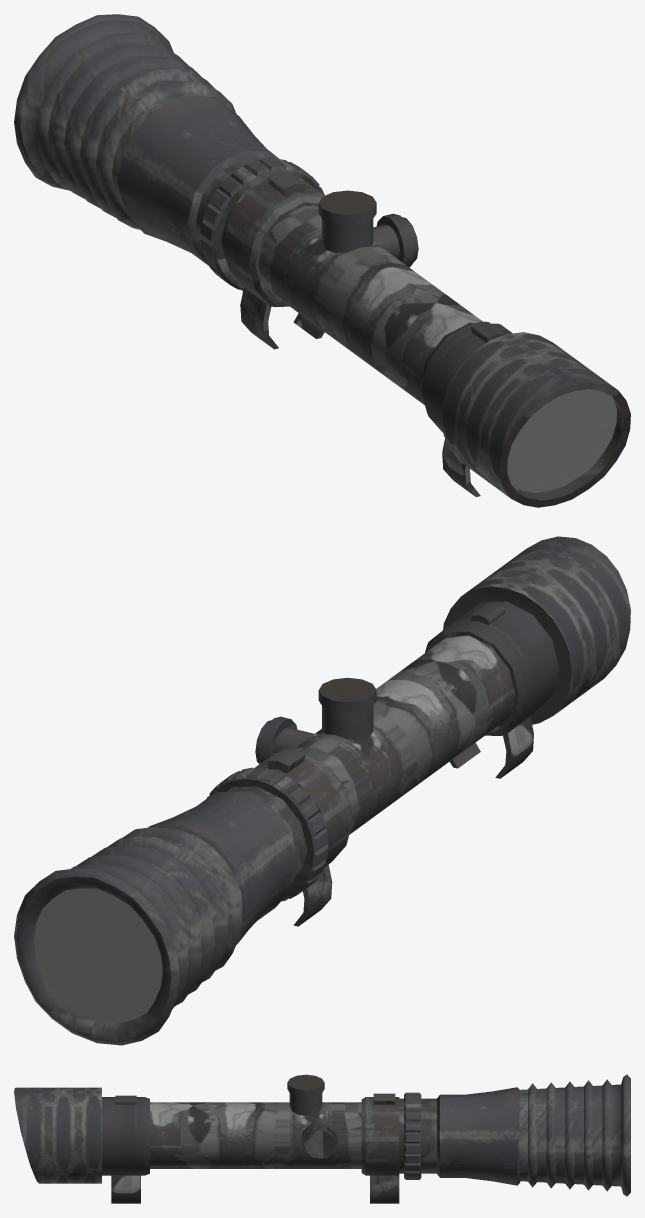
Rendered from FRF1_Scope_01.FBX.
The picture shows the model from 3 angles, top to bottom: view 1: azimuth 30°, elevation 25°; view 2: azimuth 150°, elevation 25°; view 3: azimuth 270°, elevation 25°; orthographic projection. The views are drawn at different scales.
Visible parts, largest first — view 1: FR_F1_Scope_H; view 2: FR_F1_Scope_H; view 3: FR_F1_Scope_H.
Part boxes in pixels (x1,y1,x2,y2): FR_F1_Scope_H: (14,14,630,507); FR_F1_Scope_H: (14,536,630,1045); FR_F1_Scope_H: (14,1074,630,1203).
Size of the model in its own units: 6.42 by 6.71 by 32.25.
